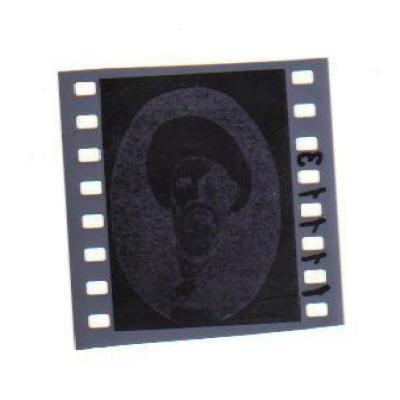photos_negatives: (116, 77, 292, 309)
